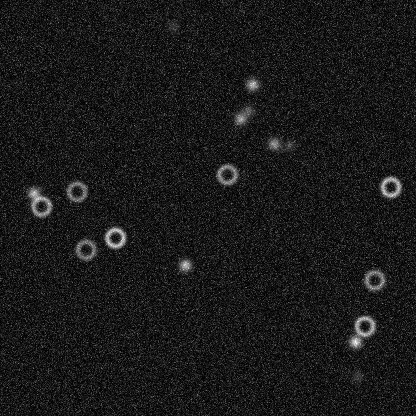Ring: (103, 225, 127, 249), (352, 313, 376, 337), (64, 179, 88, 203), (29, 194, 53, 218), (378, 174, 402, 198), (215, 162, 239, 186), (362, 267, 386, 291), (73, 237, 97, 261)
Spot: (281, 137, 297, 153), (347, 333, 363, 349), (244, 76, 260, 92), (265, 135, 281, 151), (25, 185, 41, 201), (232, 110, 248, 126), (348, 368, 364, 384), (165, 18, 181, 34), (177, 257, 193, 273), (240, 102, 256, 118)
